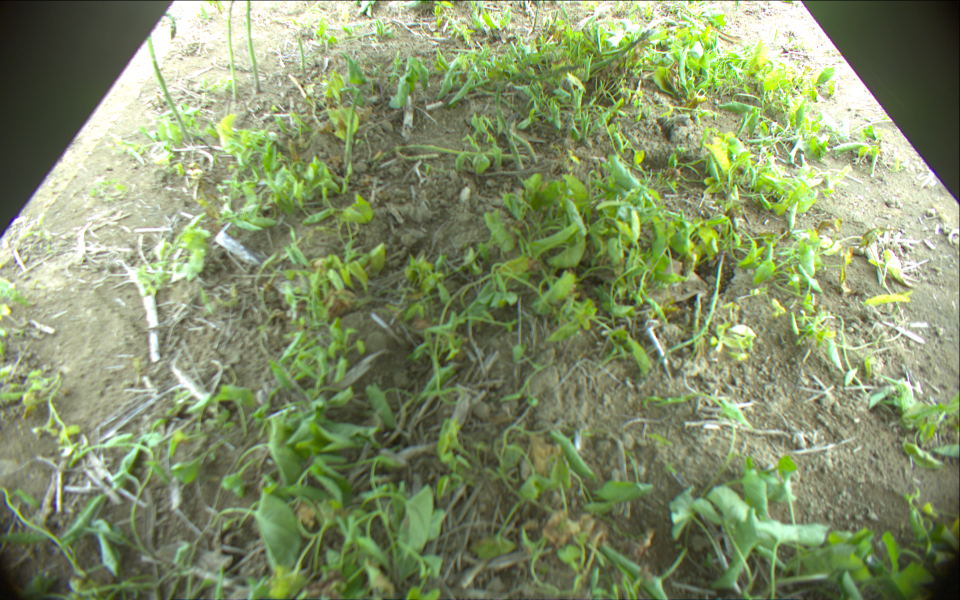aspa: (146, 33, 196, 144), (583, 28, 655, 76), (388, 144, 541, 161), (342, 84, 368, 171), (242, 1, 262, 95), (225, 1, 238, 98), (507, 110, 523, 172), (513, 130, 542, 164), (161, 13, 180, 40), (295, 35, 305, 76)
